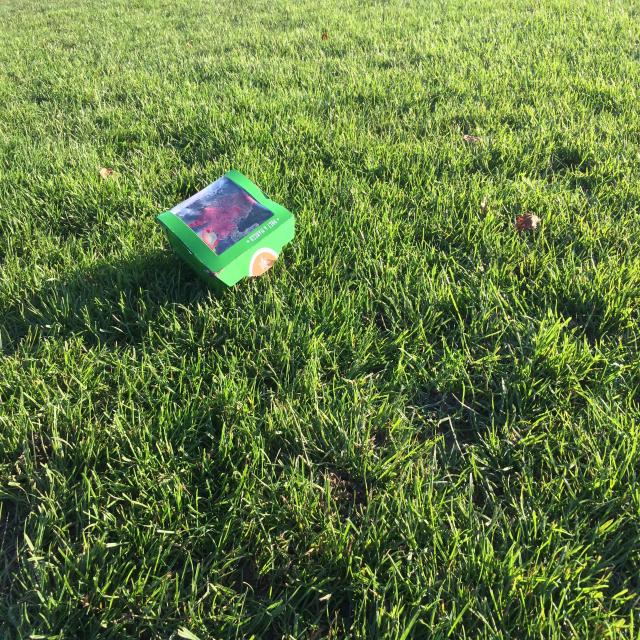Meal carton: (156, 169, 295, 294)
Plastic film: (169, 176, 274, 255)
